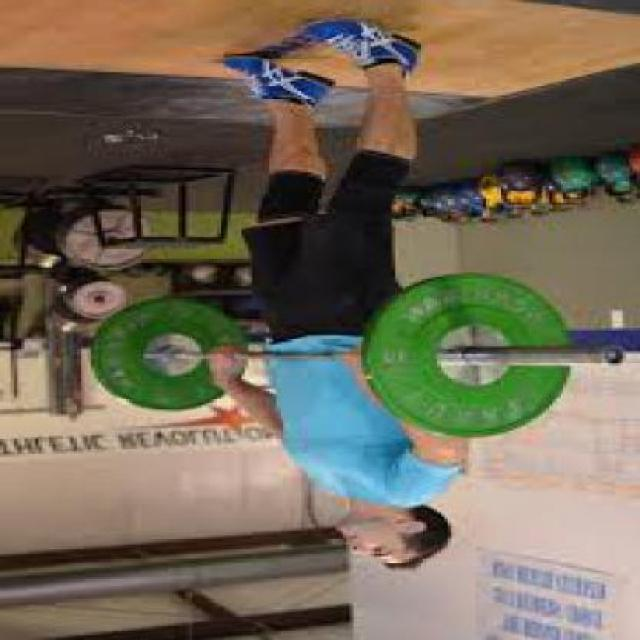Barbell: (596, 341, 632, 372)
